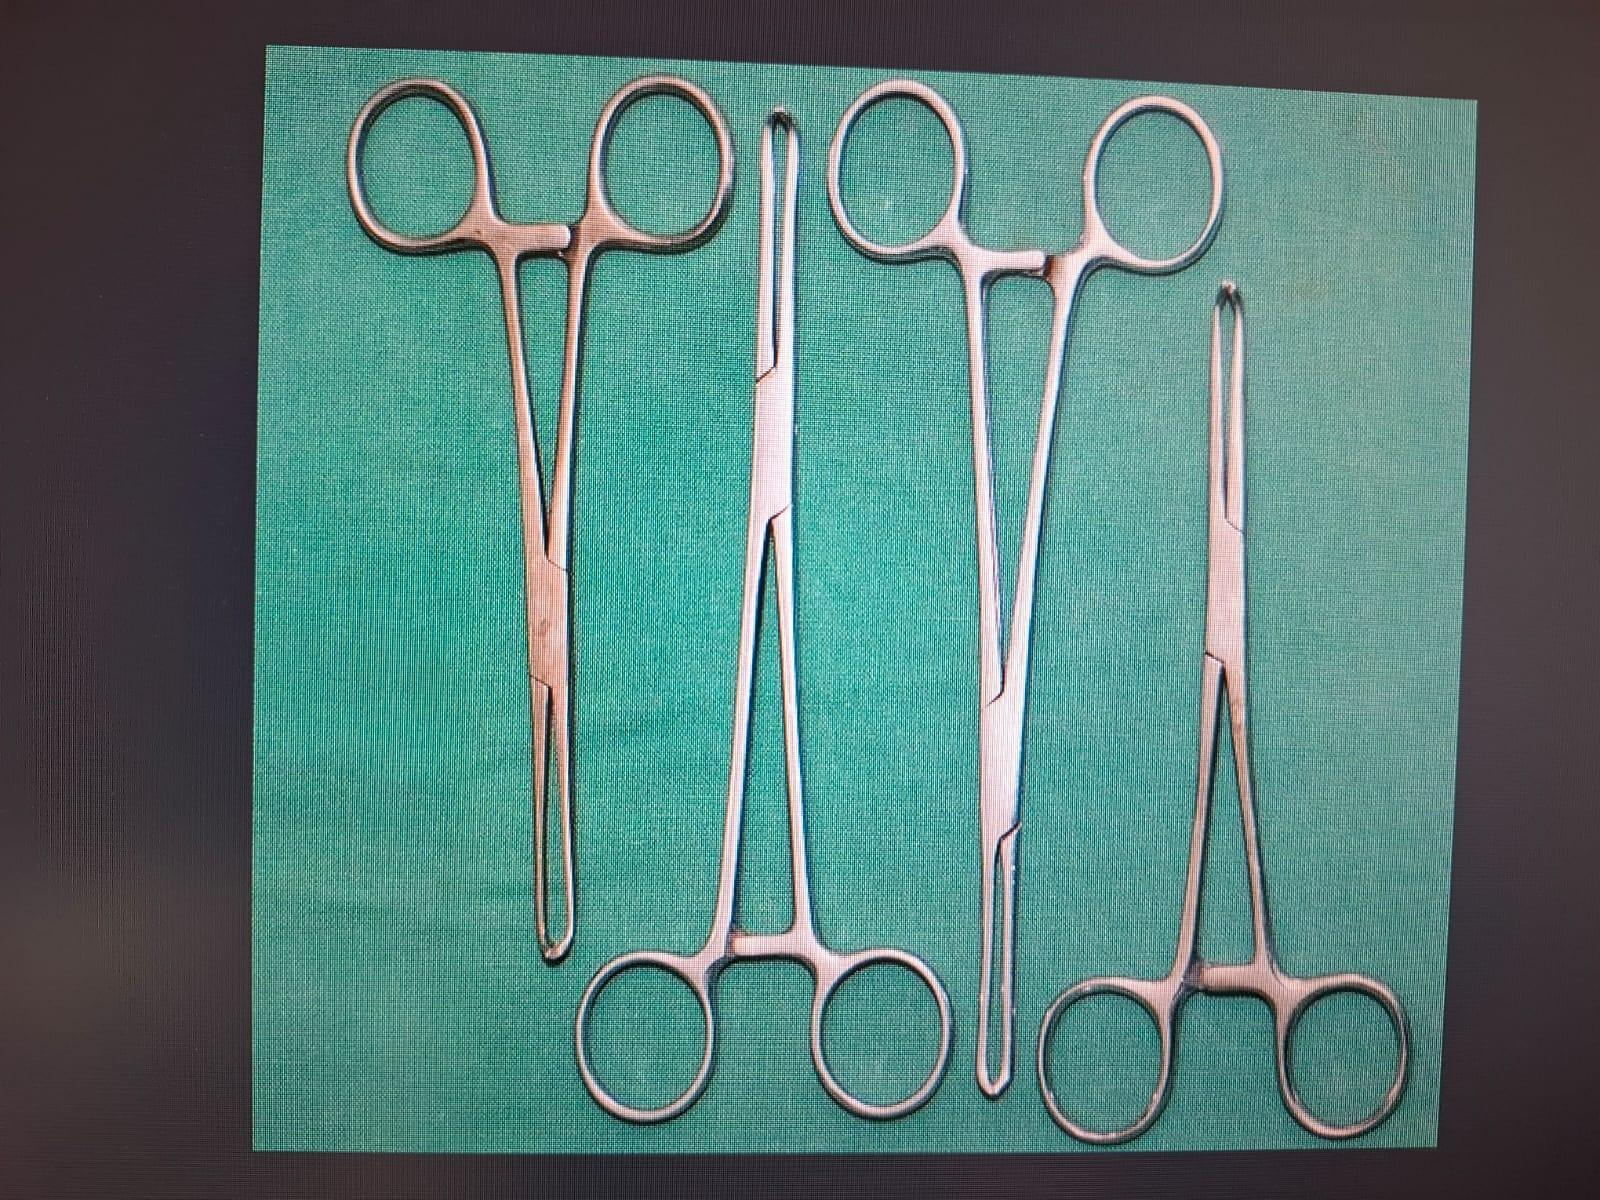Allis Forceps: (824, 72, 1232, 1102), (578, 94, 958, 1136), (334, 62, 750, 966), (1024, 274, 1434, 1146)
